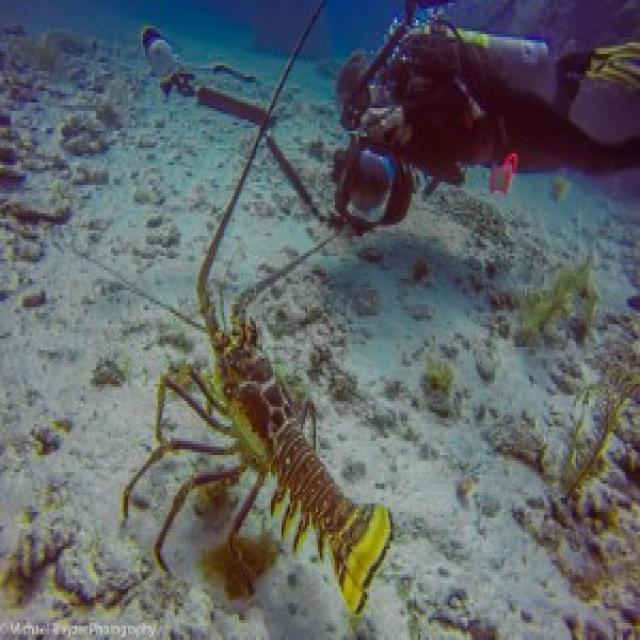lobsters: (101, 173, 424, 591)
